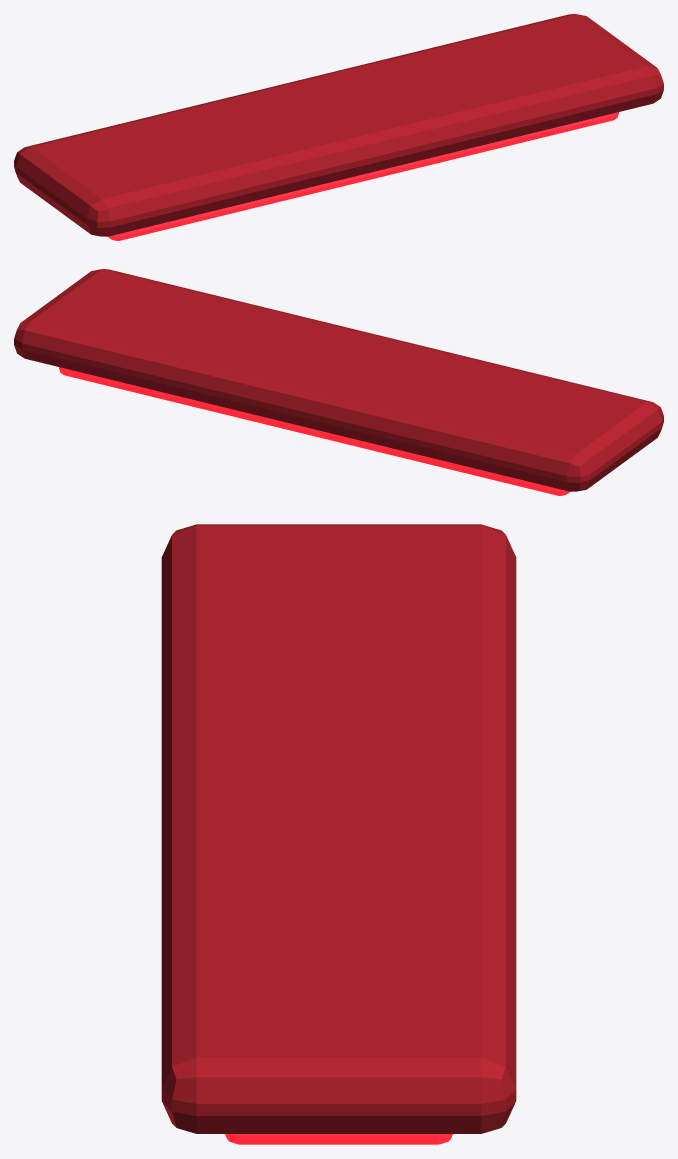
The model's file is emergency-light.glb.
3 views of the same model, one above another, from view 1: azimuth 30°, elevation 25°; view 2: azimuth 150°, elevation 25°; view 3: azimuth 270°, elevation 25° (orthographic). The views are drawn at different scales.
Visible parts, largest first — view 1: emergencyLight · Emergency red, emergencyLight · Red diffuser; view 2: emergencyLight · Emergency red, emergencyLight · Red diffuser; view 3: emergencyLight · Emergency red, emergencyLight · Red diffuser.
Boxes of the visible parts, box(x1,y1,x2,y2) form: emergencyLight · Emergency red: box(14, 14, 663, 236); emergencyLight · Red diffuser: box(108, 112, 618, 240); emergencyLight · Emergency red: box(14, 269, 663, 491); emergencyLight · Red diffuser: box(59, 367, 569, 495); emergencyLight · Emergency red: box(161, 524, 516, 1133); emergencyLight · Red diffuser: box(225, 1134, 452, 1144).
Bounding box in the file's own units: 1.2 × 0.1385 × 0.32.
